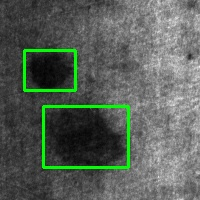patches: (43, 106, 128, 167), (24, 50, 75, 90)
